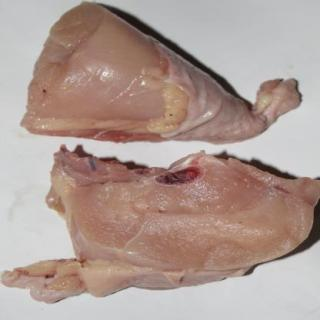Ayam: (1, 153, 320, 304), (21, 4, 303, 144)
